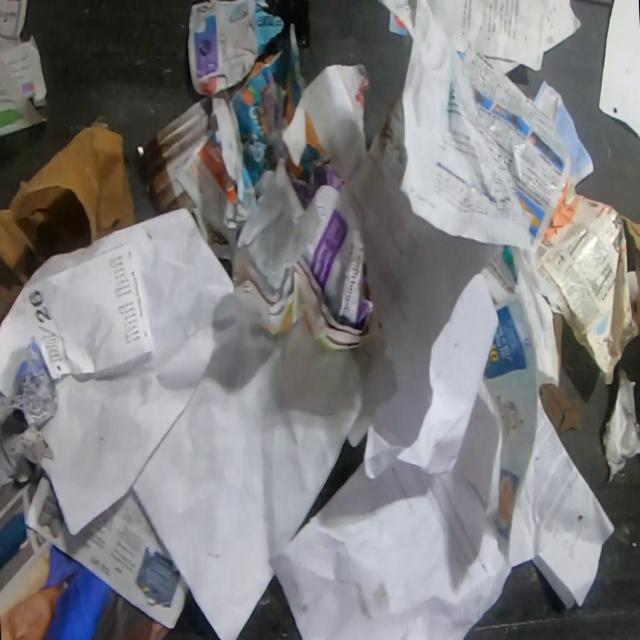cardboard: (0, 123, 138, 326), (533, 170, 640, 388), (187, 0, 285, 97), (0, 0, 48, 139), (618, 213, 640, 256), (554, 313, 564, 386)
metal: (134, 143, 152, 198)
soft_plastic: (256, 0, 310, 64)
